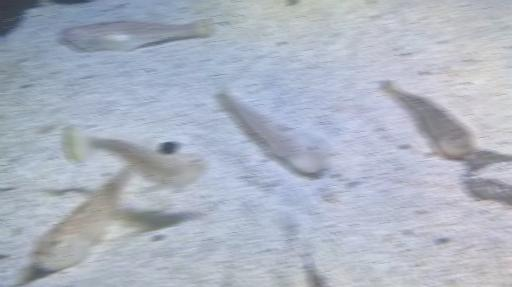Fish: (30, 165, 135, 271), (219, 84, 331, 173), (63, 125, 208, 193), (381, 80, 476, 159), (58, 19, 211, 52), (306, 255, 324, 286)
